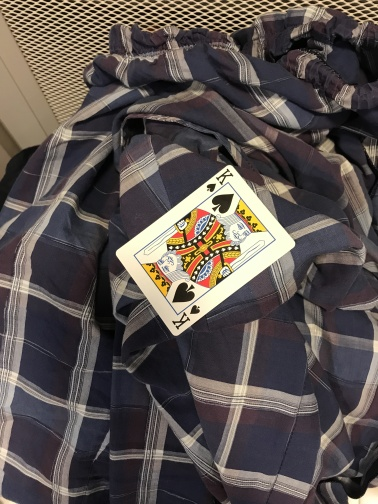king: (114, 163, 298, 339)
